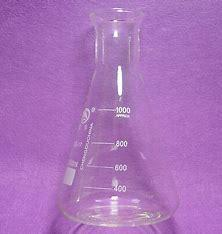Titrarion: (27, 15, 176, 230)
